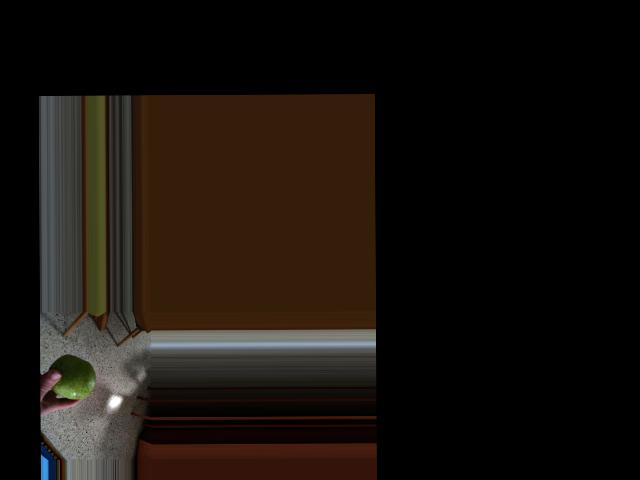apple: (47, 351, 97, 402)
